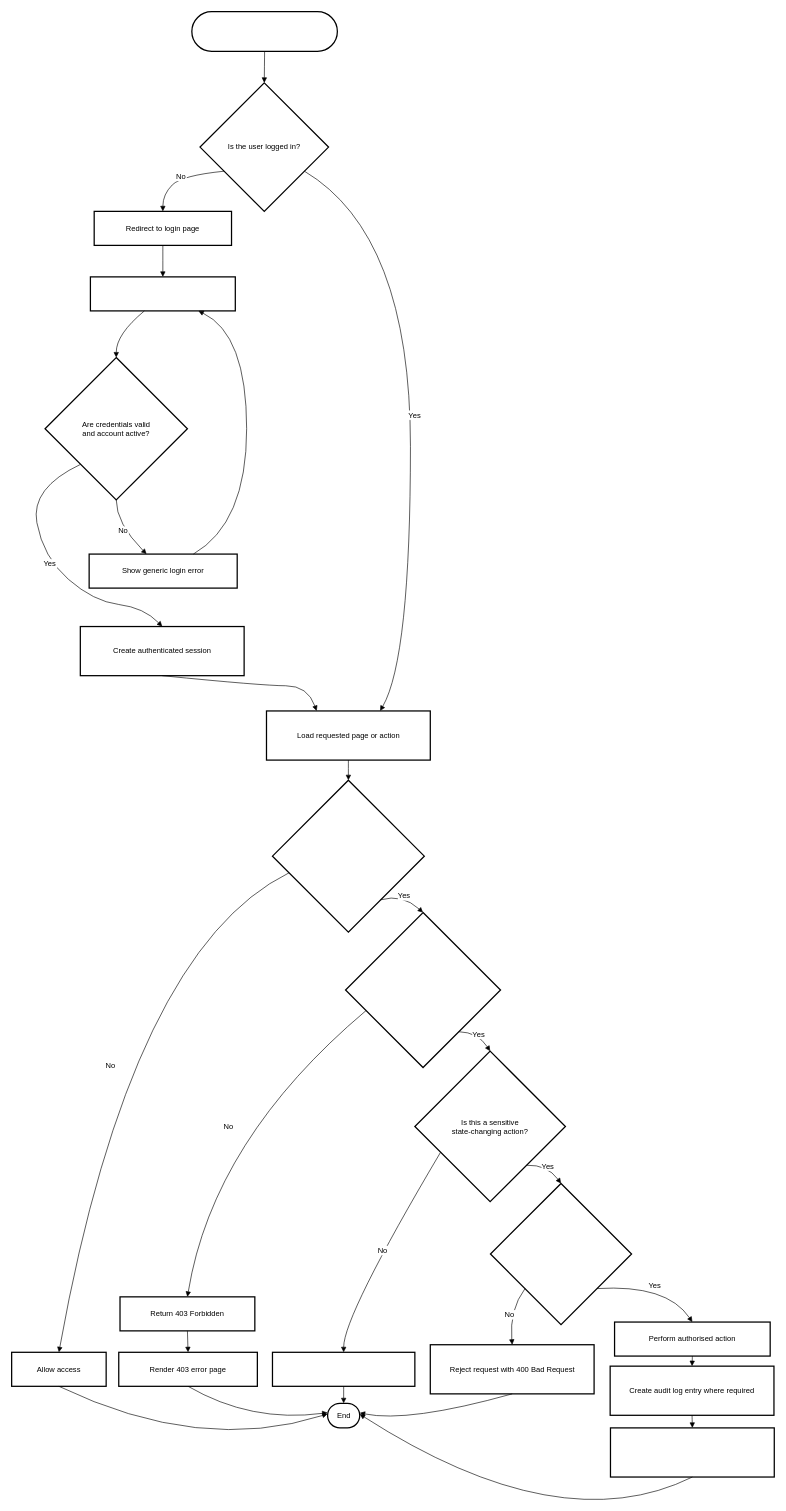
Image size: 786x1511. Some labels were removed from this diagram. Each missing label, with the centre of its shape:
"Does current user's role match allowed roles?" goes at (x=423, y=990).
"Does the route require a specific role?" goes at (x=348, y=855).
"Is the CSRF token valid?" goes at (x=561, y=1254).
"Render requested page" goes at (x=343, y=1369).
"Show success or failure message" goes at (x=692, y=1452).
"User requests protected page or action" goes at (x=264, y=31).
"User submits login form" goes at (x=162, y=293).
